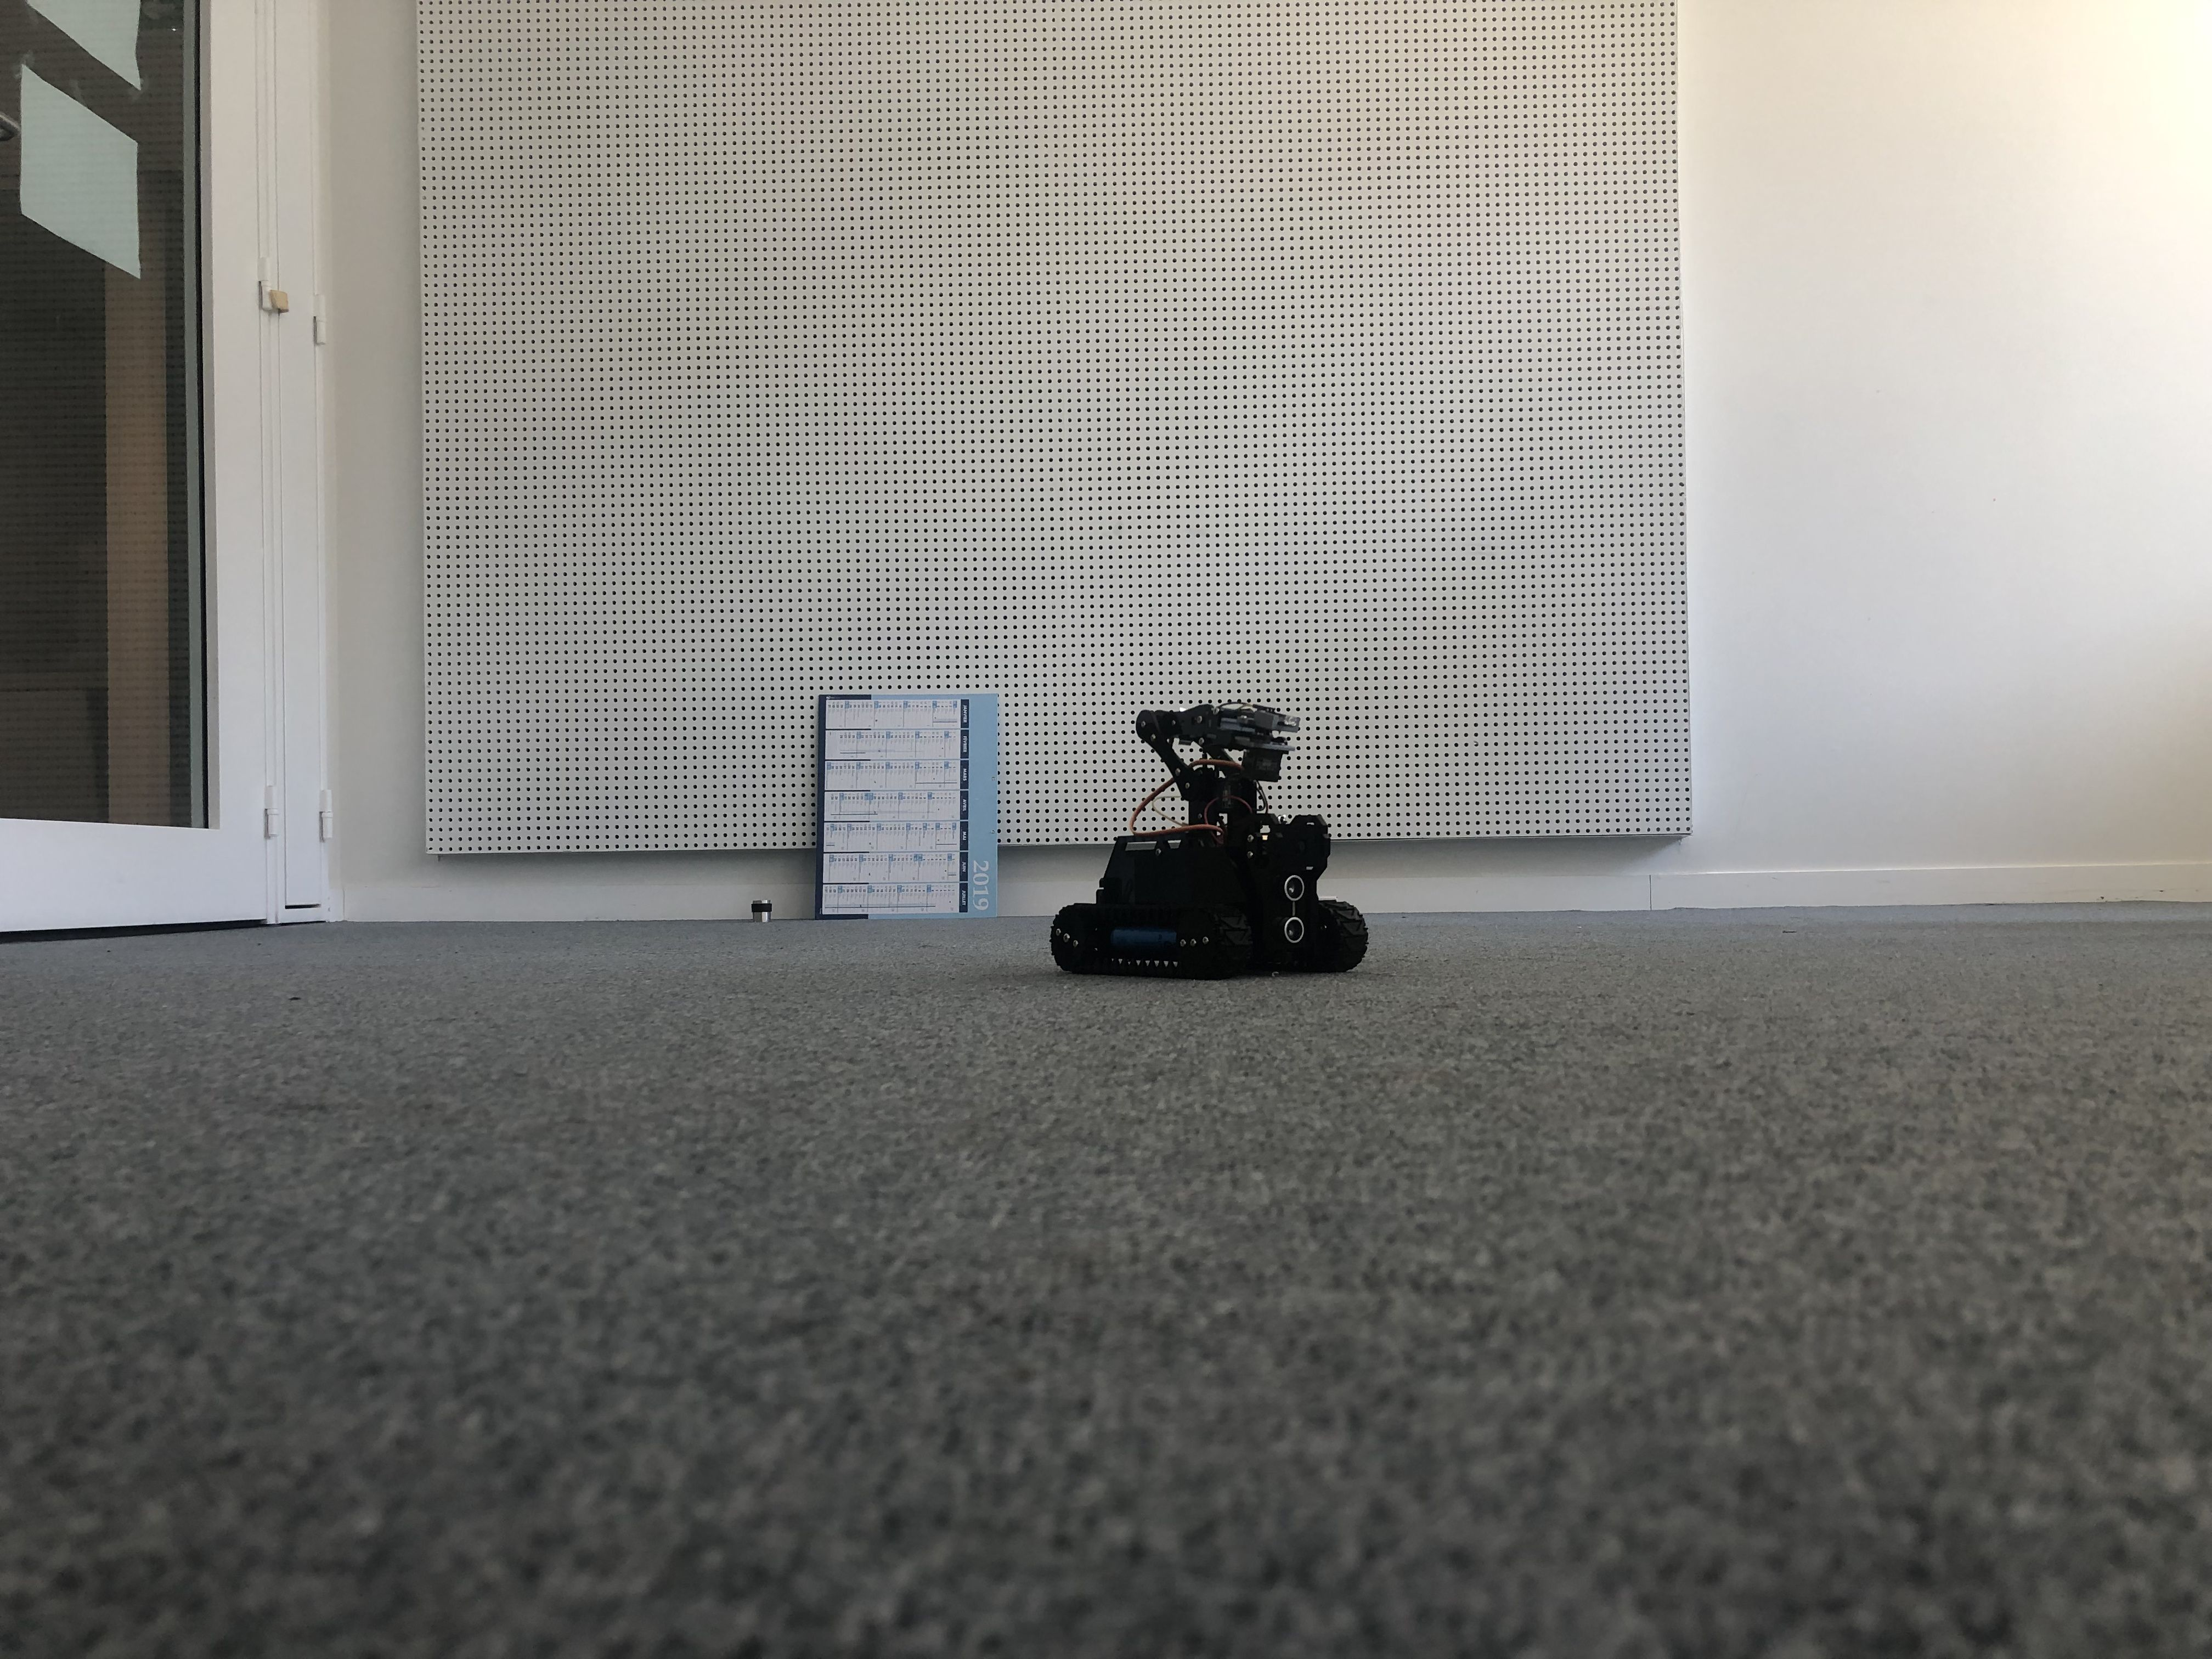rasptank: (1047, 697, 1378, 974)
